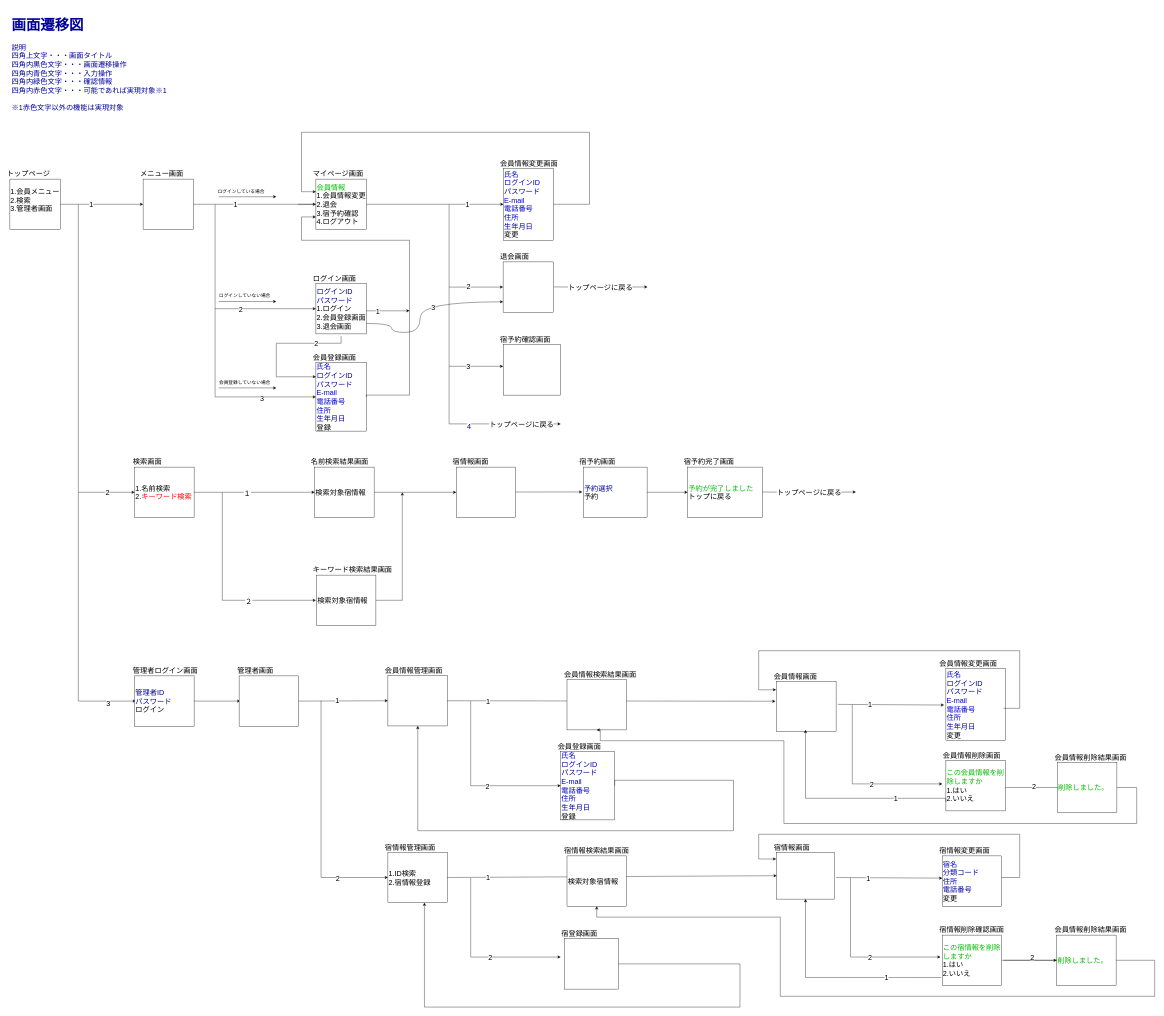
This 1164x1016 diagram has some shape labels left out. The shapes that lost their labels are listed below. From the top down, each one's centre as x and y in pixels, then its label:
At point (168, 204): "1.マイページ 2.ログイン 3.会員登録".
At point (528, 287): "氏名 ログインID パスワード 退会".
At point (532, 369): "宿予約情報 予約変更 予約キャンセル".
At point (486, 492): "宿情報 空き状況の確認 宿予約".
At point (269, 701): "1.会員情報管理 2.宿情報管理".
At point (417, 700): "1.ID検索 2.会員情報登録".
At point (596, 704): "検索対象会員情報".
At point (806, 706): "会員管理情報 1.会員情報変更 2.会員情報削除".
At point (805, 875): "宿管理情報 1.宿情報変更 2.宿情報削除".
At point (591, 963): "宿名 分類コード 住所 電話番号 登録".
